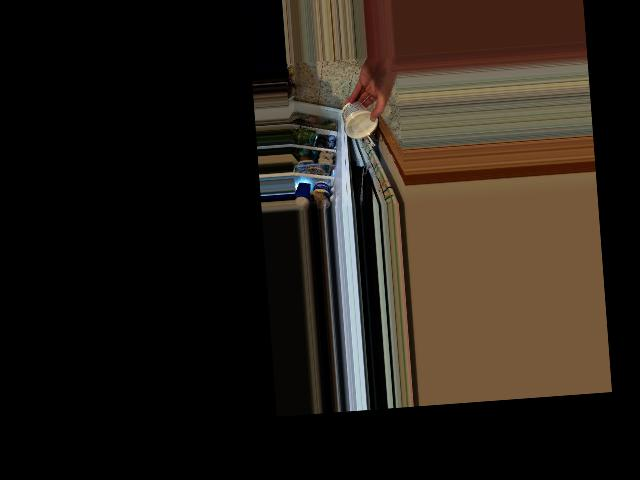cotage: (341, 96, 382, 138)
